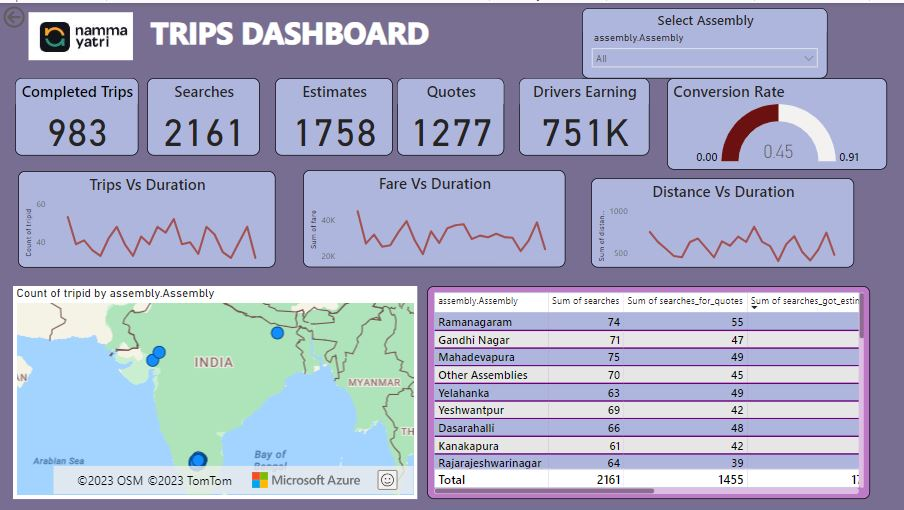

The page's visual inventory and layout, read from the dashboard file:
{"tool":"powerbi","page":{"name":"Page 1","canvas":[1280,720],"ordinal":0},"visuals":[{"type":"card","title":"Completed Trips","fields":{"Values":["Sum(trip_details.end_ride)"]},"box":[21.7,106.7,175,110],"z":0},{"type":"card","title":"Searches","fields":{"Values":["Sum(trip_details.searches)"]},"box":[208.3,106.7,160,110],"z":1000},{"type":"card","title":"Estimates","fields":{"Values":["Sum(trip_details.searches_got_estimate)"]},"box":[390,106.7,166.7,110],"z":2000},{"type":"card","title":"Quotes","fields":{"Values":["Sum(trip_details.searches_got_quotes)"]},"box":[563.3,106.7,151.7,110],"z":3000},{"type":"card","title":"Drivers Earning","fields":{"Values":["Sum(trips.fare)"]},"box":[735,106.7,185,110],"z":4000},{"type":"gauge","title":"Conversion Rate","fields":{"Y":["trip_details.Conversion_rate"]},"box":[945,106.7,311.7,130],"z":5000},{"type":"lineChart","title":"Trips Vs Duration","fields":{"Category":["trips.duration"],"Y":["CountNonNull(trips.tripid)"]},"box":[25,238.3,365,136.7],"z":6000},{"type":"lineChart","title":"Distance Vs Duration","fields":{"Category":["trips.duration"],"Y":["Sum(trips.distance)"]},"box":[838.3,248.3,373.3,126.7],"z":7000},{"type":"lineChart","title":"Fare Vs Duration","fields":{"Category":["trips.duration"],"Y":["Sum(trips.fare)"]},"box":[430,236.7,371.7,138.3],"z":8000},{"type":"tableEx","fields":{"Values":["Merge2.assembly.Assembly","Sum(Merge2.searches)","Sum(Merge2.searches_for_quotes)","Sum(Merge2.searches_got_estimate)","Sum(Merge2.searches_got_quotes)","Sum(Merge2.trips.distance)","Sum(Merge2.trips.fare)","trip_details.Conversion_rate"]},"box":[605,401.7,628.3,301.7],"z":9000},{"type":"actionButton","box":[0,0,100,40],"z":10000},{"type":"azureMap","fields":{"Category":["Merge2.assembly.Assembly"]},"box":[18.3,401.7,573.3,301.7],"z":11000},{"type":"image","box":[35,6.7,158.3,80],"z":12000},{"type":"textbox","box":[196.7,6.7,500,66.7],"z":13000},{"type":"slicer","title":"Select Assembly","fields":{"Values":["Merge2.assembly.Assembly"]},"box":[825,6.7,348.3,100],"z":14000}]}

Visuals, with their boxes in screenshot pixels (x1, y1, x2, y2), scaled from the page's 1280x720 canvas onto the 904x510 screenshot:
"Completed Trips" card: {"left": 15, "top": 76, "right": 139, "bottom": 153}
"Searches" card: {"left": 147, "top": 76, "right": 260, "bottom": 153}
"Estimates" card: {"left": 275, "top": 76, "right": 393, "bottom": 153}
"Quotes" card: {"left": 398, "top": 76, "right": 505, "bottom": 153}
"Drivers Earning" card: {"left": 519, "top": 76, "right": 650, "bottom": 153}
"Conversion Rate" gauge: {"left": 667, "top": 76, "right": 888, "bottom": 168}
"Trips Vs Duration" lineChart: {"left": 18, "top": 169, "right": 275, "bottom": 266}
"Distance Vs Duration" lineChart: {"left": 592, "top": 176, "right": 856, "bottom": 266}
"Fare Vs Duration" lineChart: {"left": 304, "top": 168, "right": 566, "bottom": 266}
tableEx - Merge2.assembly.Assembly x Sum(Merge2.searches): {"left": 427, "top": 285, "right": 871, "bottom": 498}
actionButton: {"left": 0, "top": 0, "right": 71, "bottom": 28}
azureMap - Merge2.assembly.Assembly: {"left": 13, "top": 285, "right": 418, "bottom": 498}
image: {"left": 25, "top": 5, "right": 137, "bottom": 61}
textbox: {"left": 139, "top": 5, "right": 492, "bottom": 52}
"Select Assembly" slicer: {"left": 583, "top": 5, "right": 829, "bottom": 76}
